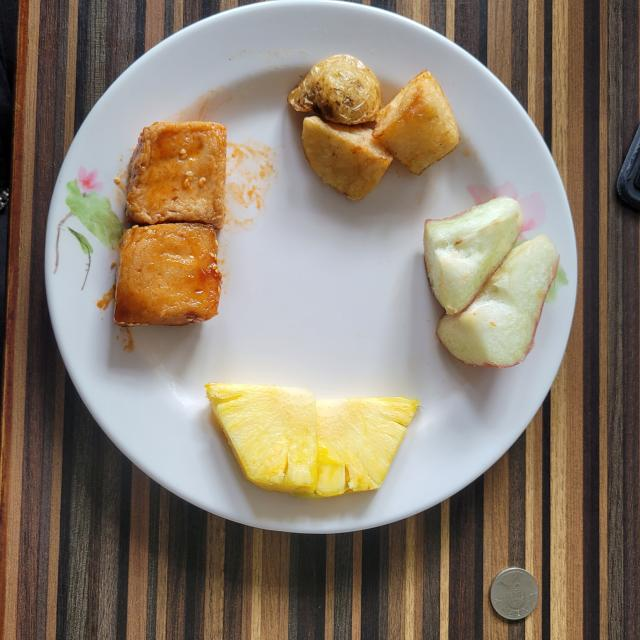coin: (490, 568, 539, 620)
creamy tofu: (114, 121, 226, 326)
fried potato: (288, 55, 459, 200)
pineapple: (205, 382, 419, 498)
